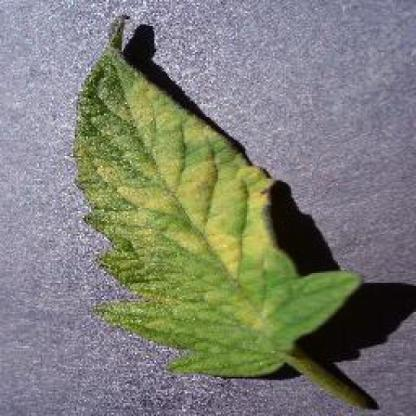Tomato_Leaf_Mold: (78, 16, 362, 374)
